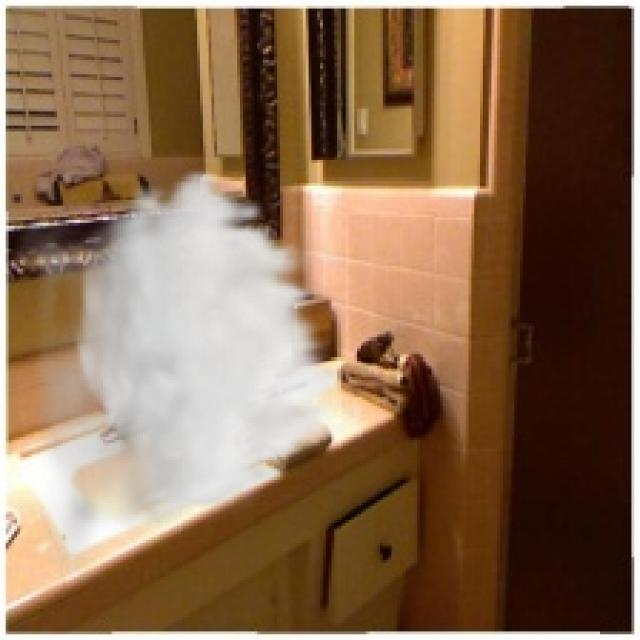smoke: (9, 166, 352, 583)
